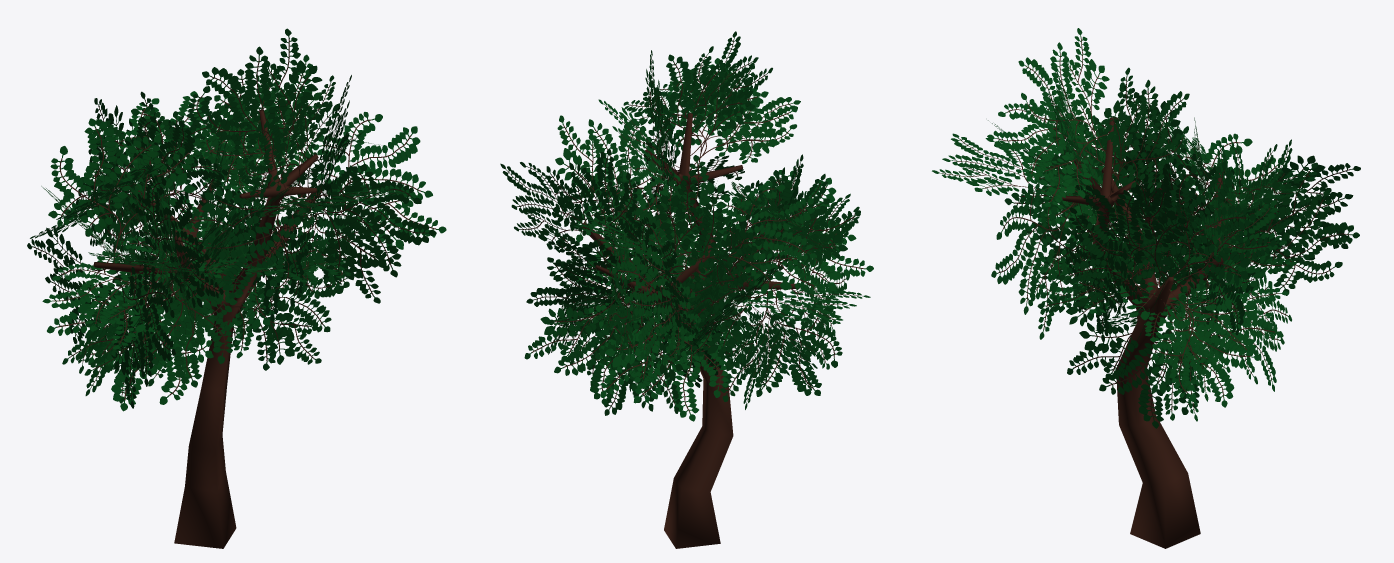
The model's file is LOD0_Oak_Tree.fbx.
3 renders of one model, left to right at view 1: azimuth 30°, elevation 25°; view 2: azimuth 150°, elevation 25°; view 3: azimuth 270°, elevation 25°, orthographic. The views are drawn at different scales.
Parts seen in each view (by area): view 1: Oak_Tree; view 2: Oak_Tree; view 3: Oak_Tree.
Part boxes in pixels (x1=…): Oak_Tree: x1=27, y1=28, x2=446, y2=548; Oak_Tree: x1=500, y1=31, x2=873, y2=548; Oak_Tree: x1=932, y1=28, x2=1360, y2=548.
Size of the model in its own units: 620 by 755 by 620.
Materials: 2 (1 with a texture image).
